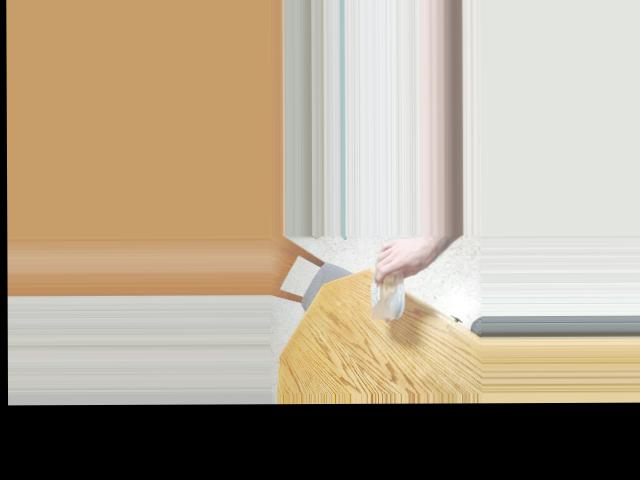cheese: (360, 251, 415, 316)
